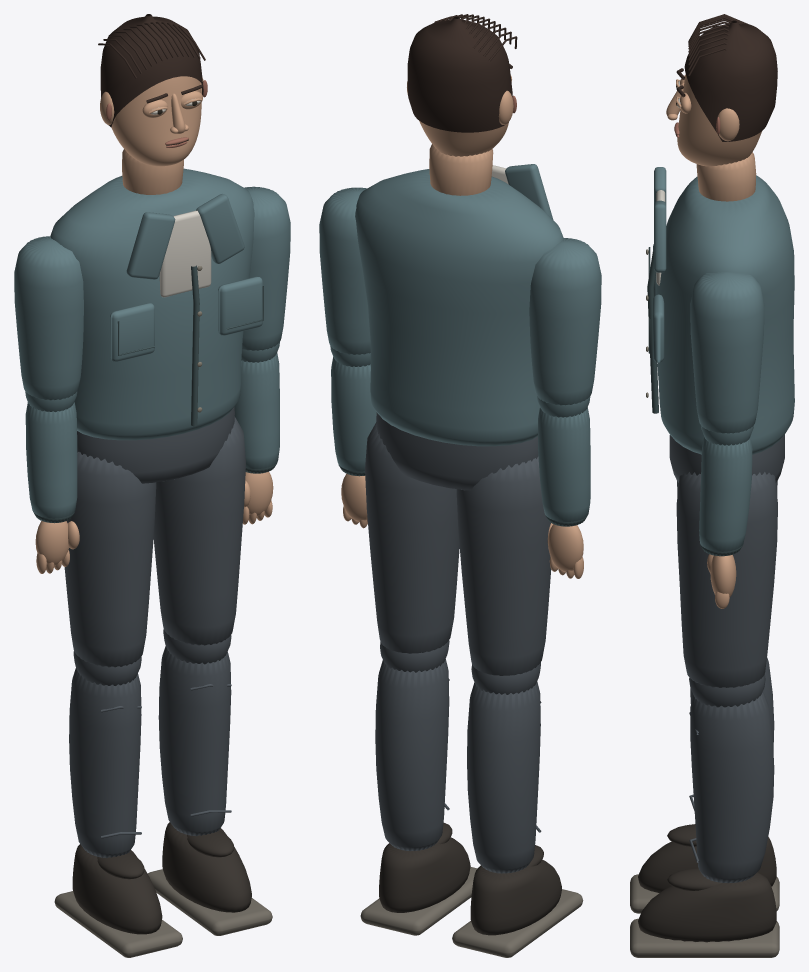
Rendered from citizen_realistic.glb.
3 views of the same model, side by side, from view 1: azimuth 30°, elevation 25°; view 2: azimuth 150°, elevation 25°; view 3: azimuth 270°, elevation 25° (orthographic). The views are drawn at different scales.
Parts seen in each view (by area): view 1: Body_Surface, LeftShin_Surface, RightShin_Surface, LeftLeg_Surface, RightLeg_Surface, Head_Surface, LeftArm_Surface, LeftForearm_Surface, RightForearm_Surface, RightArm_Surface; view 2: Body_Surface, LeftShin_Surface, RightShin_Surface, LeftLeg_Surface, RightLeg_Surface, Head_Surface, LeftArm_Surface, LeftForearm_Surface, RightArm_Surface, RightForearm_Surface; view 3: Body_Surface, RightShin_Surface, RightLeg_Surface, Head_Surface, RightArm_Surface, RightForearm_Surface, LeftShin_Surface.
Part boxes in pixels (left/top/right/bottom): Body_Surface: left=50, top=149, right=263, bottom=483; LeftShin_Surface: left=54, top=651, right=182, bottom=957; RightShin_Surface: left=147, top=629, right=272, bottom=935; LeftLeg_Surface: left=64, top=452, right=156, bottom=667; RightLeg_Surface: left=153, top=416, right=245, bottom=645; Head_Surface: left=98, top=14, right=207, bottom=166; LeftArm_Surface: left=14, top=236, right=83, bottom=400; LeftForearm_Surface: left=25, top=391, right=79, bottom=573; RightForearm_Surface: left=234, top=342, right=279, bottom=524; RightArm_Surface: left=242, top=186, right=290, bottom=350; Body_Surface: left=355, top=144, right=563, bottom=490; LeftShin_Surface: left=452, top=662, right=583, bottom=957; RightShin_Surface: left=360, top=640, right=477, bottom=935; LeftLeg_Surface: left=456, top=456, right=551, bottom=675; RightLeg_Surface: left=365, top=422, right=459, bottom=653; Head_Surface: left=407, top=14, right=517, bottom=156; LeftArm_Surface: left=529, top=238, right=601, bottom=405; LeftForearm_Surface: left=537, top=396, right=590, bottom=578; RightArm_Surface: left=319, top=187, right=370, bottom=354; RightForearm_Surface: left=330, top=346, right=376, bottom=528; Body_Surface: left=646, top=152, right=794, bottom=482; RightShin_Surface: left=630, top=674, right=779, bottom=957; RightLeg_Surface: left=676, top=472, right=777, bottom=687; Head_Surface: left=666, top=14, right=777, bottom=166; RightArm_Surface: left=690, top=272, right=764, bottom=433; RightForearm_Surface: left=699, top=425, right=753, bottom=608; LeftShin_Surface: left=630, top=657, right=779, bottom=913.
Size of the model in its own units: 0.5531 by 1.76 by 0.2923.
